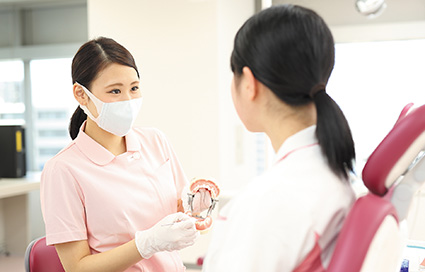mask: (94, 95, 144, 137)
